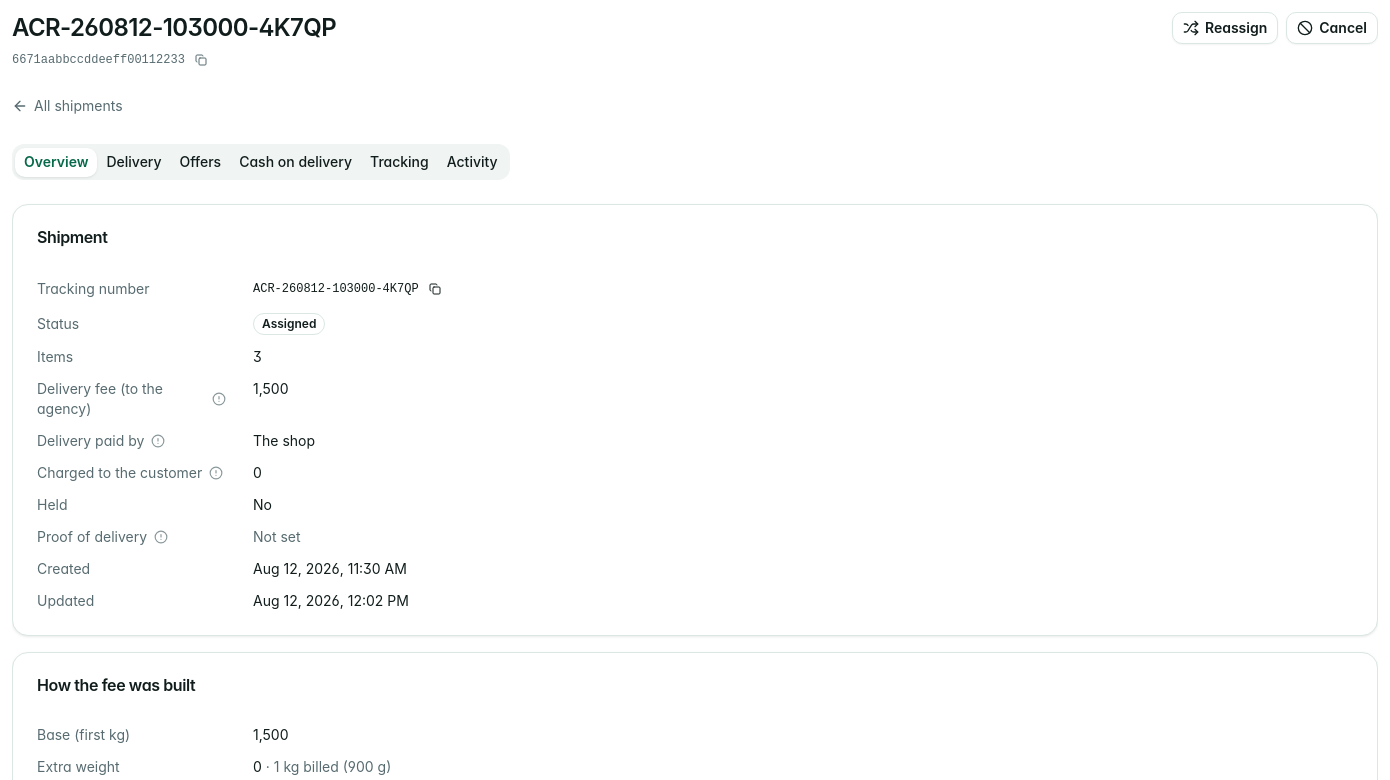
the offer trail › labels an offer with no session as created by hand
Click the tab "Offers" at point(200, 162), box 171,148 -> 230,176
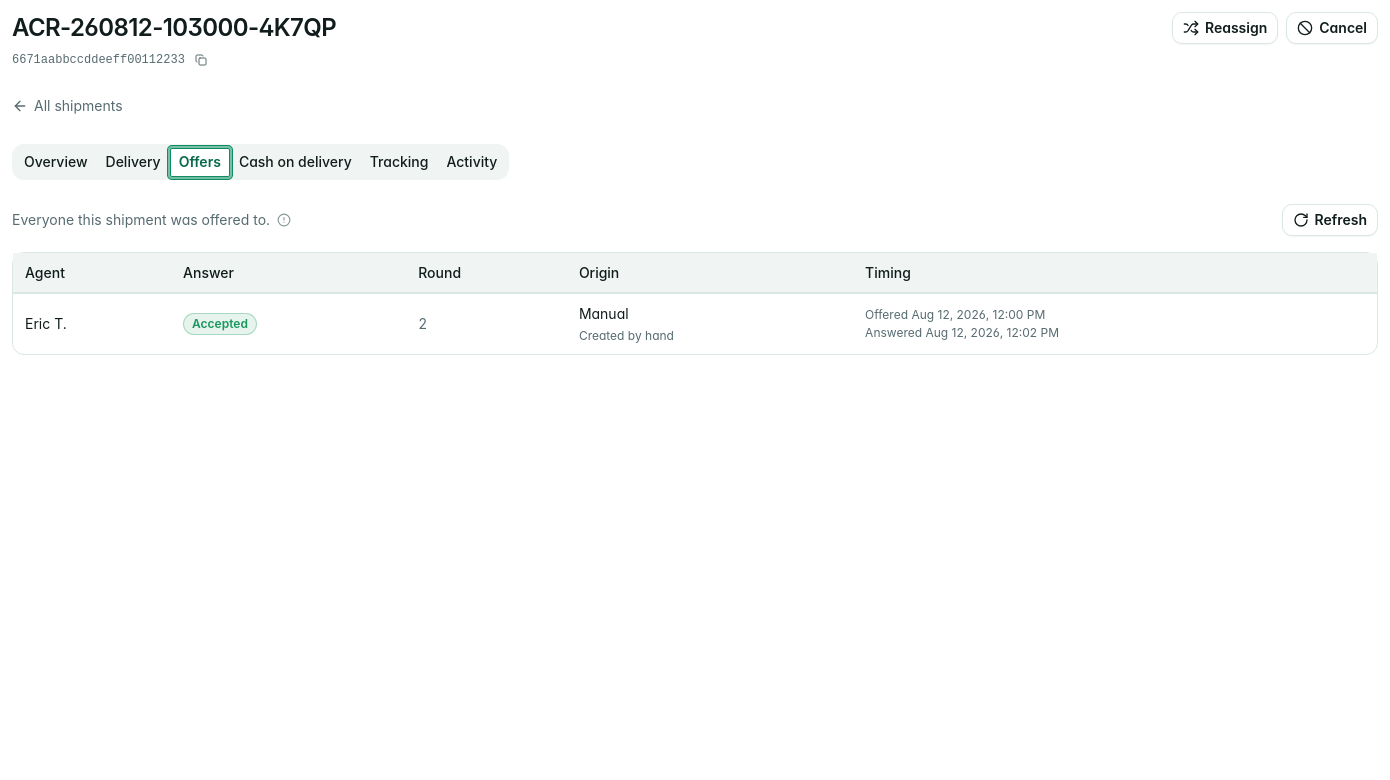
Expected: the text "Created by hand" is shown, 579,328 -> 674,342
